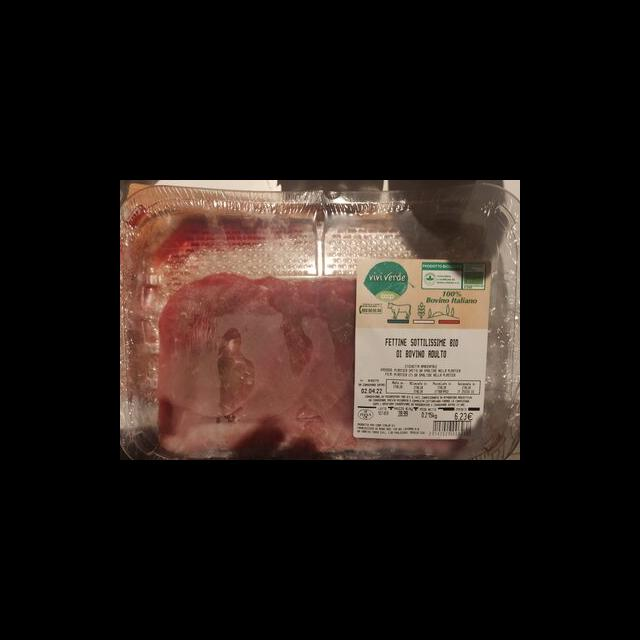beef: (163, 275, 466, 456)
